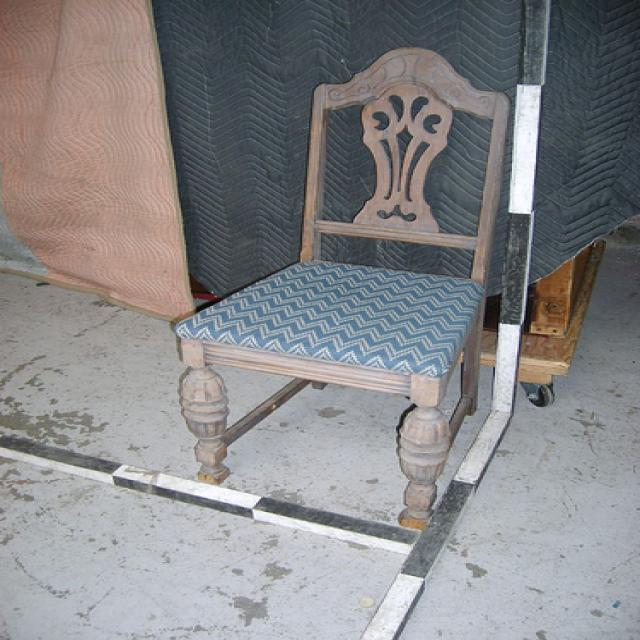chair: (169, 43, 517, 530)
